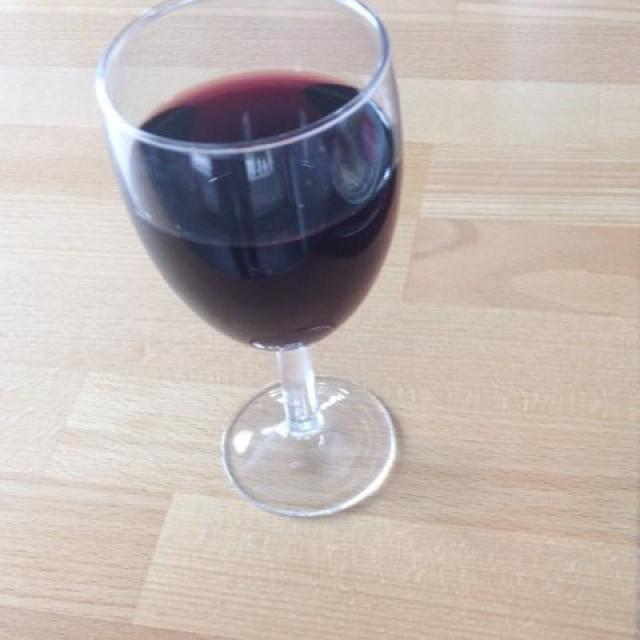wine: (118, 67, 385, 342)
